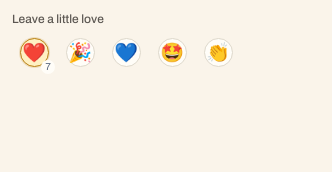
Test: keeps a failed response available to retry without changing confirmed counts
Click the button "🤩" at (172, 52), box x1=150 y1=30 x2=194 y2=74
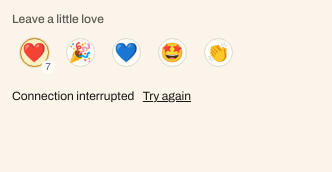
expect the message "Connection interrupted Try again" is shown: met, box x1=12 y1=86 x2=197 y2=106
